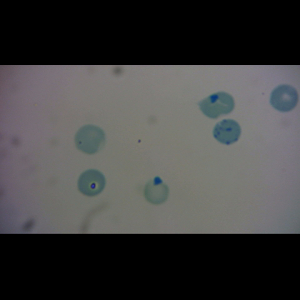aggregate reticulocyte: (211, 117, 243, 146)
erythrocyte: (197, 90, 236, 120), (269, 83, 300, 114), (76, 168, 107, 198), (143, 176, 171, 206)
punctate reticulocyte: (73, 124, 106, 155)
